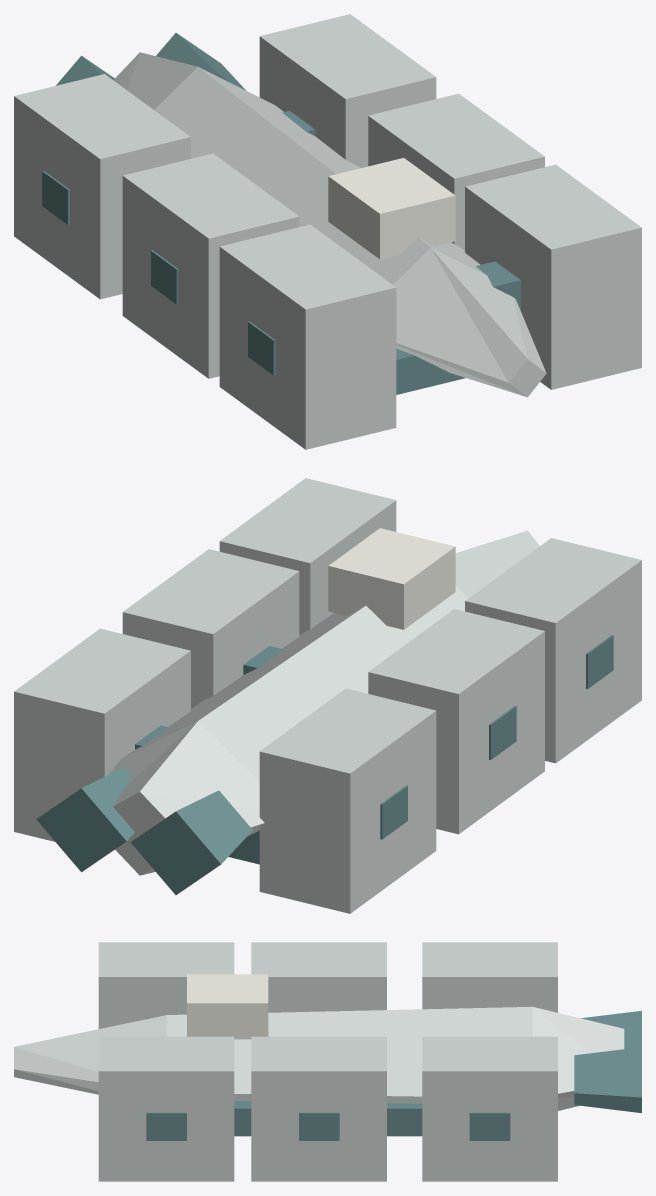
3 views of the same model, one above another, from view 1: azimuth 30°, elevation 25°; view 2: azimuth 150°, elevation 25°; view 3: azimuth 270°, elevation 25° (orthographic). The views are drawn at different scales.
Bounding box in the file's own units: 4.46 × 2.05 × 9.07.
